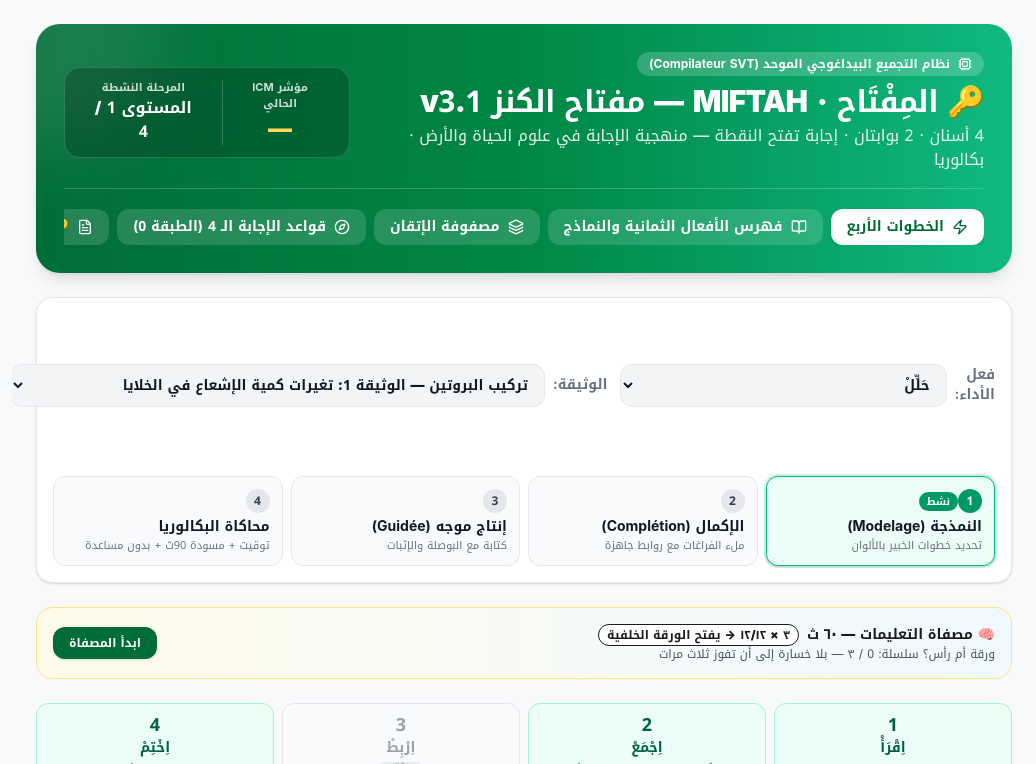
Test case: B2 · isolation du gate au stade 3 › avant le clic : gate visible, ni StepBar ni critères ni zone d'écriture, aucun « لا تُكتب هنا »
The image size is (1036, 764).
Click the heading "إنتاج موجه (Guidée)": (439,527) x1=372 y1=517 x2=507 y2=537
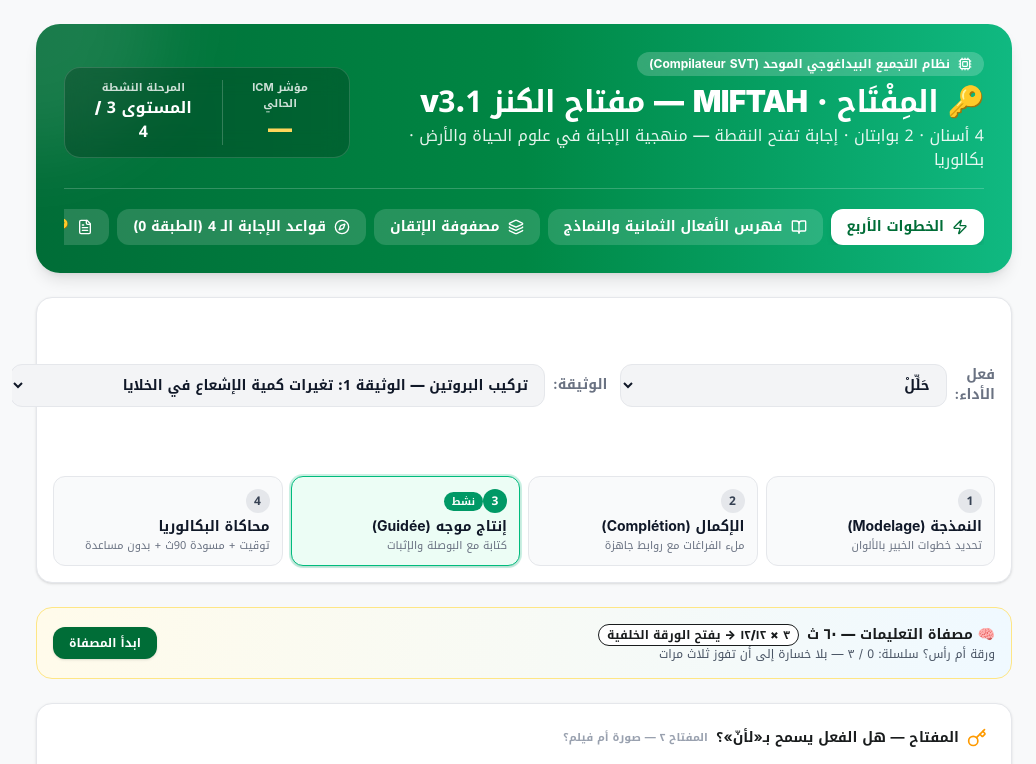
Now the text "المفتاح — هل الفعل يسمح بـ«لأنّ»؟" is shown, box x1=716 y1=728 x2=959 y2=748
